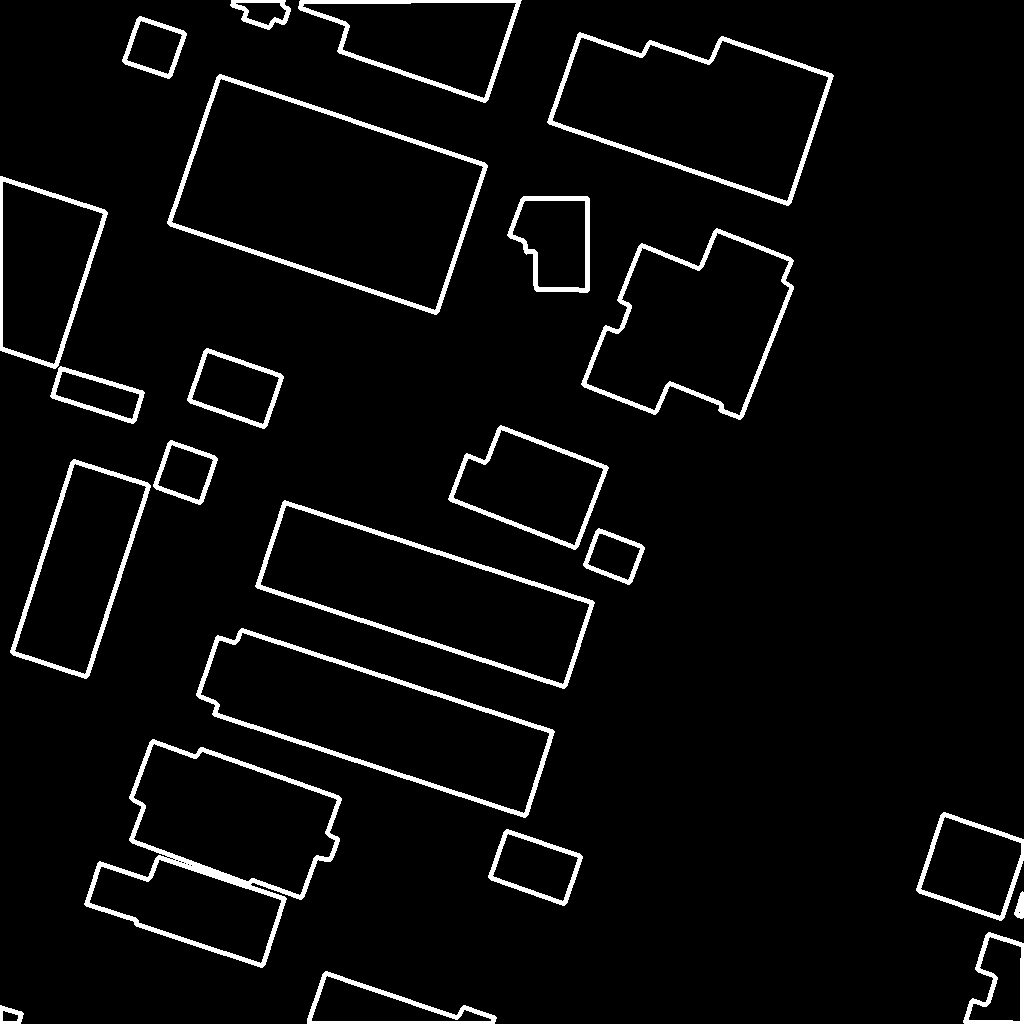building: (169, 76, 487, 314), (198, 630, 554, 817), (257, 502, 594, 688), (549, 34, 833, 205), (583, 230, 793, 419), (131, 741, 341, 899), (12, 461, 150, 678), (300, 0, 521, 102), (86, 857, 286, 967), (0, 178, 107, 368), (450, 427, 608, 549), (918, 814, 1024, 920), (309, 973, 496, 1024), (509, 198, 589, 291), (189, 350, 283, 428), (490, 831, 582, 905), (965, 934, 1024, 1024), (52, 368, 144, 423), (155, 442, 217, 504), (124, 18, 186, 78), (585, 530, 644, 584), (232, 0, 290, 29), (0, 1007, 23, 1024), (1016, 892, 1024, 918)
